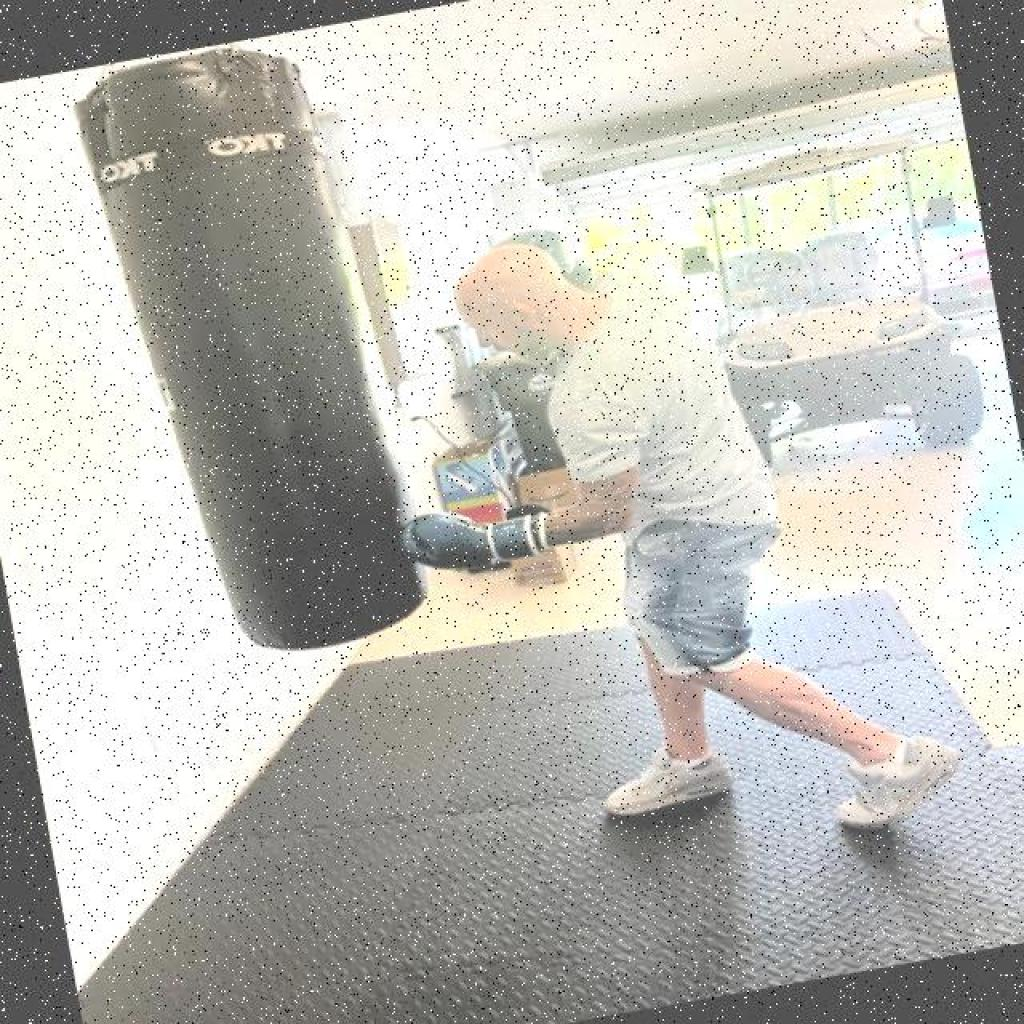uppercut: (330, 189, 778, 664)
